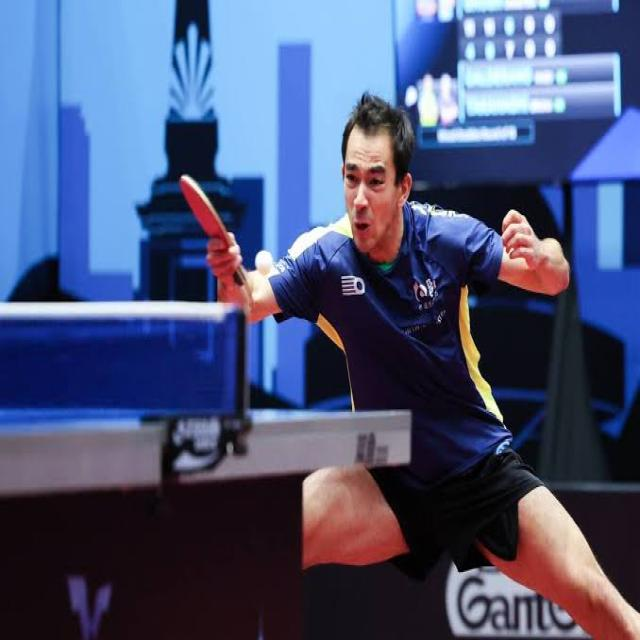TT Net: (0, 296, 252, 438)
TT Racket: (172, 165, 241, 257)
TT Table: (0, 406, 406, 438)
